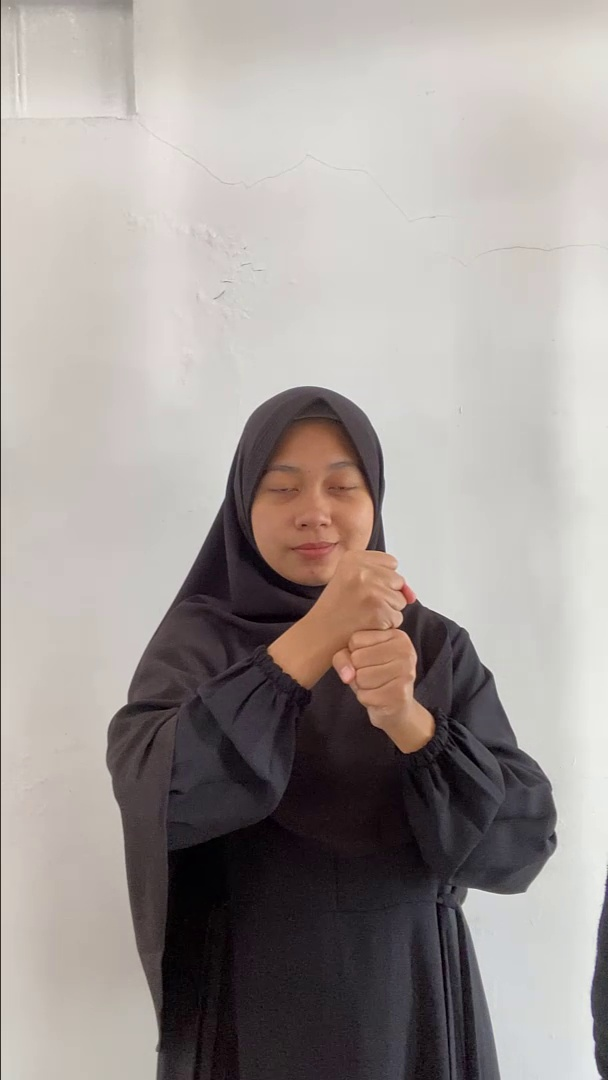MINGGU: (280, 542, 442, 780)
